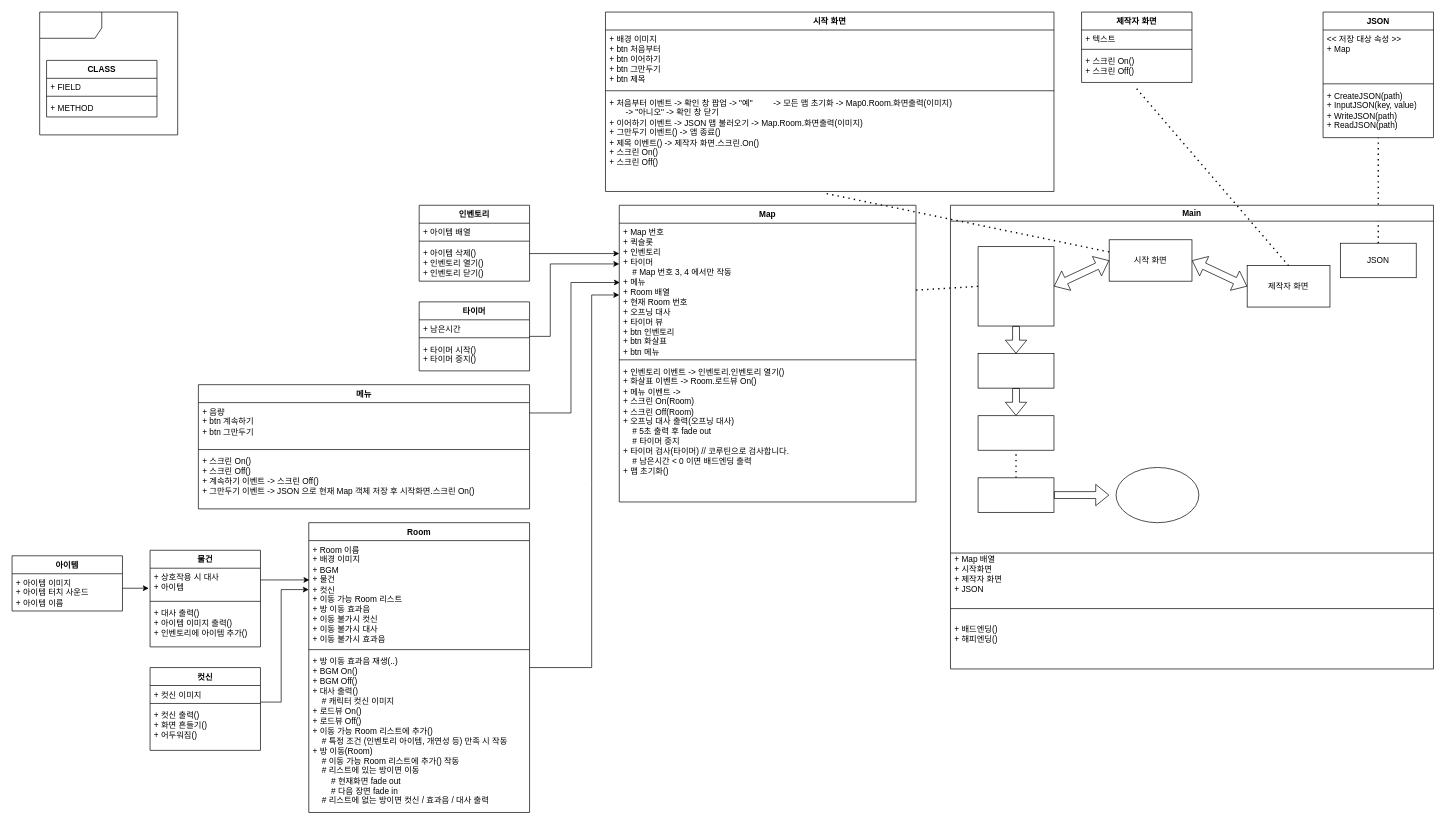
This 1446x827 diagram has some shape labels left out. Each missing label, with the centre of its shape:
"Map 0 (튜토리얼 포함) -인벤토리 확인 - 화면 이동 - 아이템 사용 - 타이머" belongs at (1015,286).
"Map 1" belongs at (1015,370).
"Map 2" belongs at (1015,432).
"Map N" belongs at (1015,494).
"NAMESPACE" belongs at (108,73).
"배드 or 해피 엔딩()" belongs at (1157,495).
